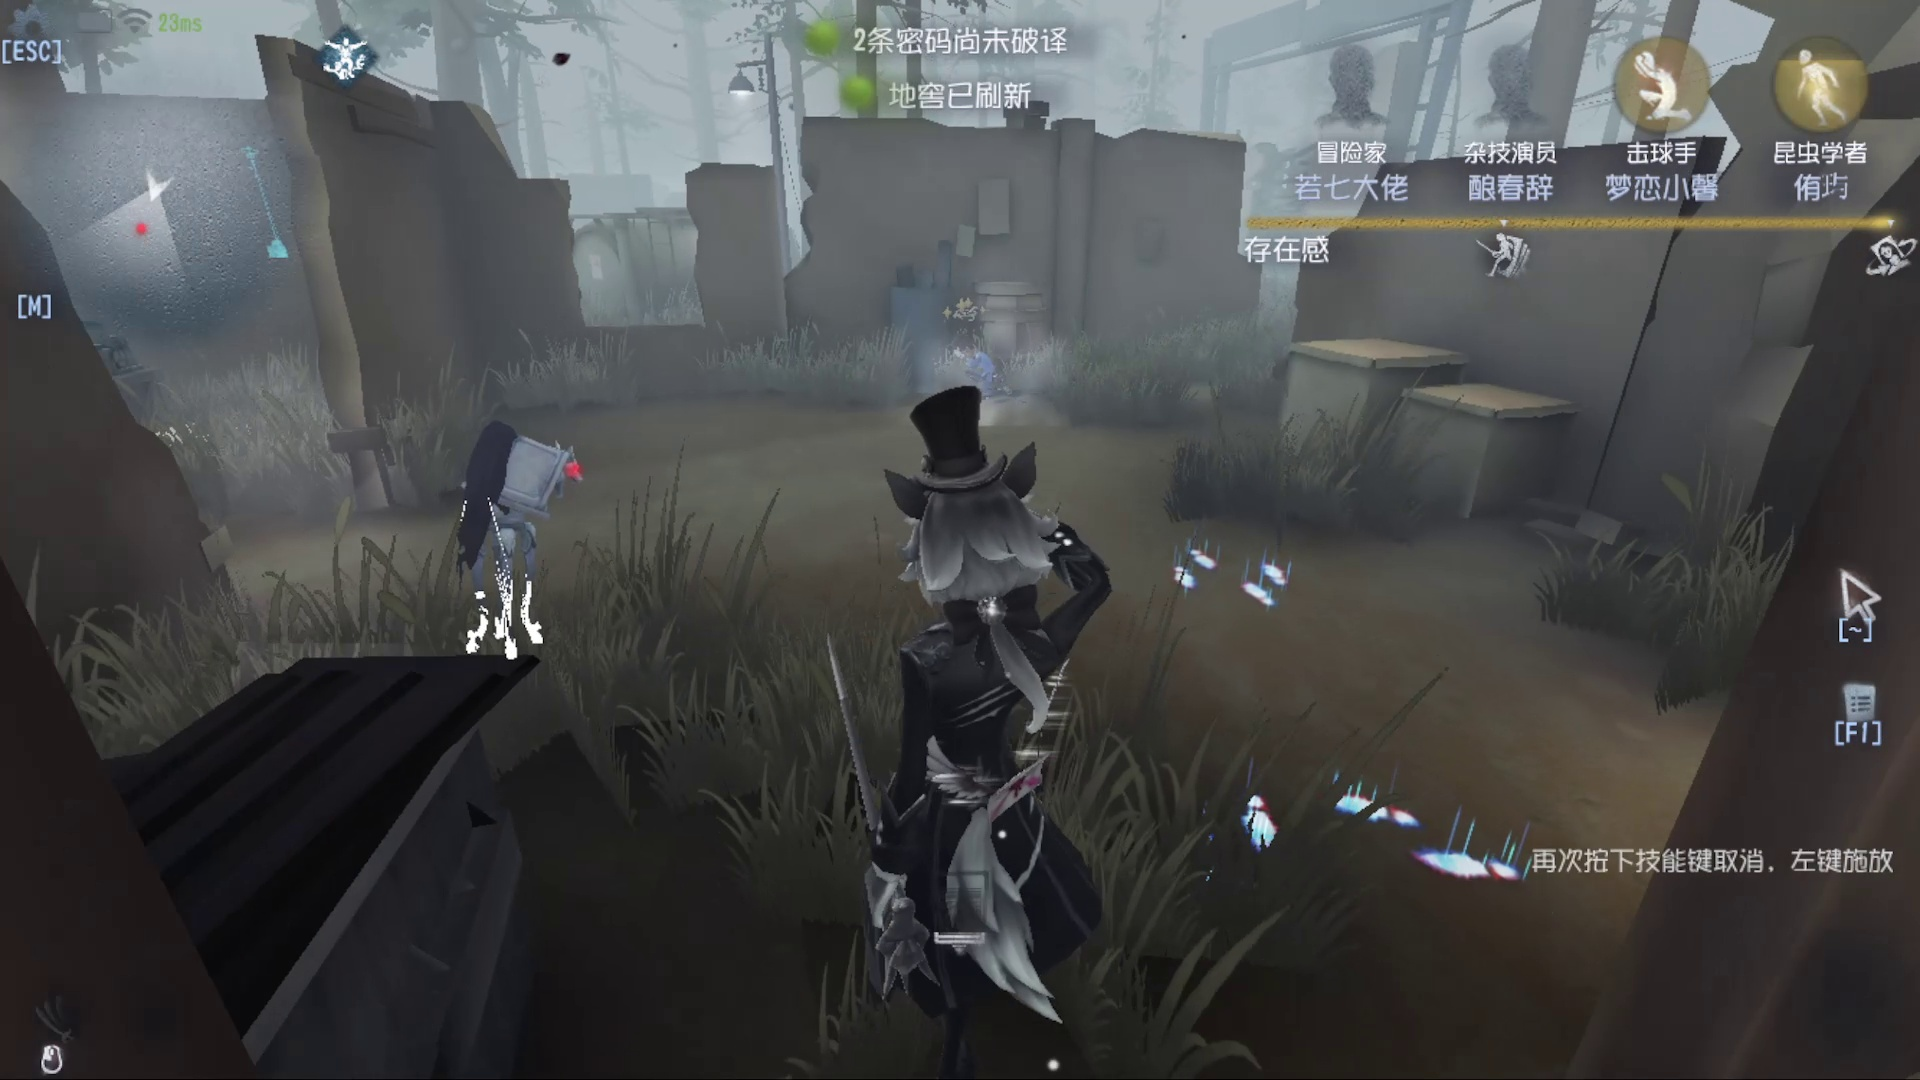求生者: (945, 328, 1018, 421)
